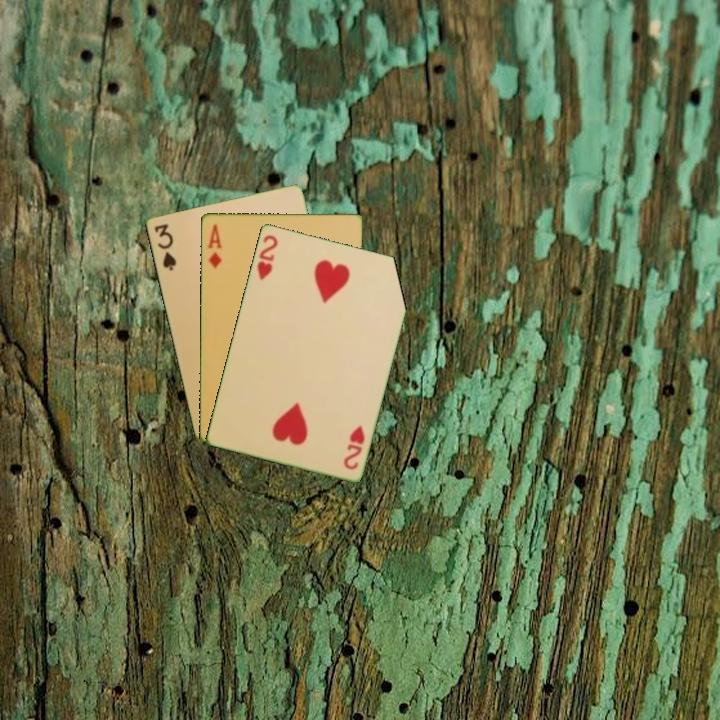2h: (253, 231, 280, 283), (340, 422, 367, 472)
3s: (150, 220, 179, 273)
Ad: (204, 220, 225, 271)
